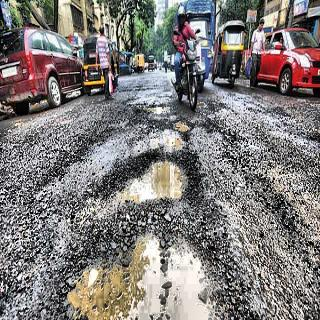pothole: (67, 225, 219, 320), (116, 142, 198, 208), (139, 100, 181, 120), (174, 118, 192, 136)
